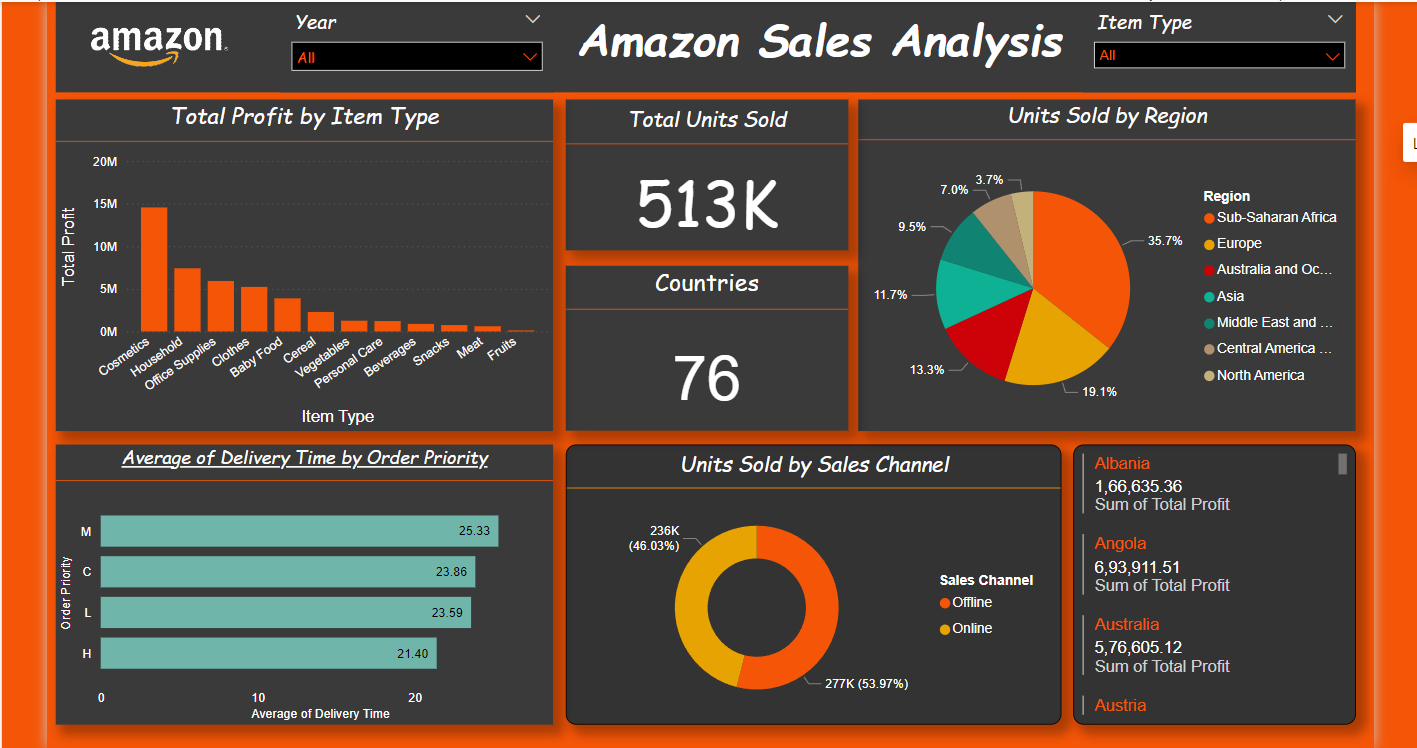

This screenshot's page, from the dashboard's own definition file:
{"tool":"powerbi","page":{"name":"Page 1","canvas":[1280,720],"ordinal":0},"visuals":[{"type":"donutChart","title":"Units Sold by Sales Channel","fields":{"Category":["Sales.Sales Channel"],"Y":["Sum(Sales.Units Sold)"]},"box":[500.1,426.8,478.1,270.2],"z":0},{"type":"multiRowCard","title":"Total Profit by Country","fields":{"Values":["Sales.Country","Sum(Sales.Total Profit)"]},"box":[990.5,427.1,272.7,270.2],"z":1000},{"type":"pieChart","title":"Units Sold by Region","fields":{"Category":["Sales.Region"],"Y":["Sum(Sales.Units Sold)"]},"box":[783,94.1,480.2,319.7],"z":2000},{"type":"card","title":"Total Units Sold","fields":{"Values":["Sum(Sales.Units Sold)"]},"box":[500.7,94.1,272.7,146],"z":3000},{"type":"card","title":"Countries","fields":{"Values":["Count(Sales.Country)"]},"box":[500.7,254.6,272.7,159.3],"z":4000},{"type":"columnChart","title":"Total Profit by Item Type","fields":{"Category":["Sales.Item Type"],"Y":["Sum(Sales.Total Profit)"]},"box":[8.4,94.1,480.2,319.7],"z":5000},{"type":"clusteredBarChart","fields":{"Category":["Sales.Order Priority"],"Y":["Avg(Sales.Delivery Time)"]},"box":[8.4,427.1,480.2,270.2],"z":6000},{"type":"textbox","box":[8.4,0,1254.7,86.9],"z":7000},{"type":"slicer","fields":{"Values":["Sales.Order Date.Variation.Date Hierarchy.Year"]},"box":[225.6,0,263,86.9],"z":8000},{"type":"slicer","fields":{"Values":["Sales.Item Type"]},"box":[1000.1,0,263,86.9],"z":9000},{"type":"image","box":[0,0,210.3,86.8],"z":10000}]}

Visuals, with their boxes on the page's 1280x720 design canvas (x1, y1, x2, y2). These are canvas units, not pixel positions in the 1417x748 screenshot, which may show the page scaled, cropped or inside an application window:
"Units Sold by Sales Channel" donutChart: <region>500, 427, 978, 697</region>
"Total Profit by Country" multiRowCard: <region>990, 427, 1263, 697</region>
"Units Sold by Region" pieChart: <region>783, 94, 1263, 414</region>
"Total Units Sold" card: <region>501, 94, 773, 240</region>
"Countries" card: <region>501, 255, 773, 414</region>
"Total Profit by Item Type" columnChart: <region>8, 94, 489, 414</region>
clusteredBarChart - Sales.Order Priority x Avg(Sales.Delivery Time): <region>8, 427, 489, 697</region>
textbox: <region>8, 0, 1263, 87</region>
slicer - Sales.Order Date.Variation.Date Hierarchy.Year: <region>226, 0, 489, 87</region>
slicer - Sales.Item Type: <region>1000, 0, 1263, 87</region>
image: <region>0, 0, 210, 87</region>
